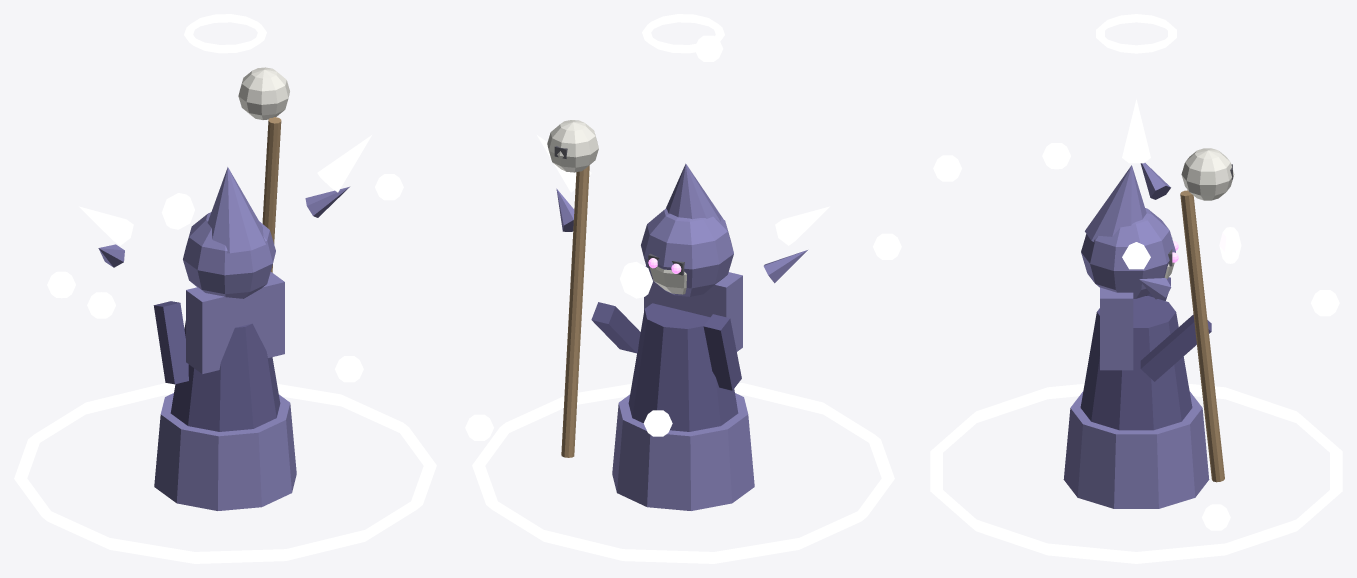
File: evolved_witch.glb
3 renders of one model, left to right at view 1: azimuth 30°, elevation 25°; view 2: azimuth 150°, elevation 25°; view 3: azimuth 270°, elevation 25°, orthographic.
Parts seen in each view (by area): view 1: evolved_witch; view 2: evolved_witch; view 3: evolved_witch.
Boxes of the visible parts, x1,y1,x2,y2 form: evolved_witch: [14, 14, 436, 563]; evolved_witch: [465, 14, 901, 563]; evolved_witch: [930, 14, 1342, 563].
Size of the model in its own units: 3.52 by 4.13 by 3.43.
